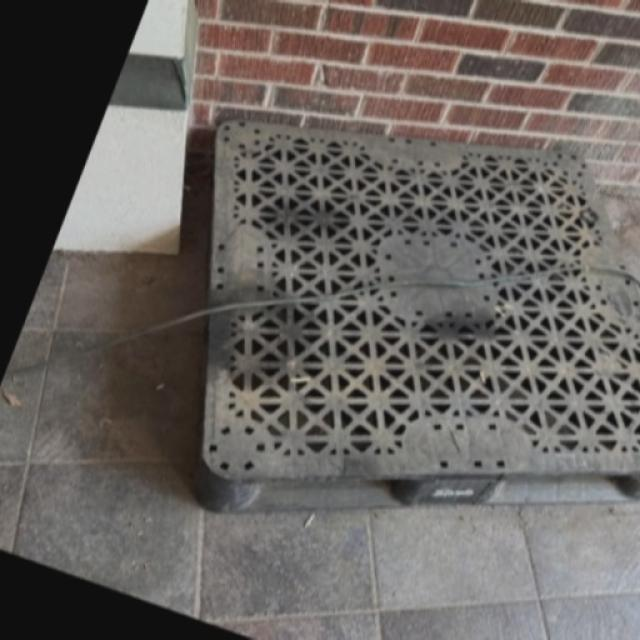non-igps: (184, 111, 639, 522)
